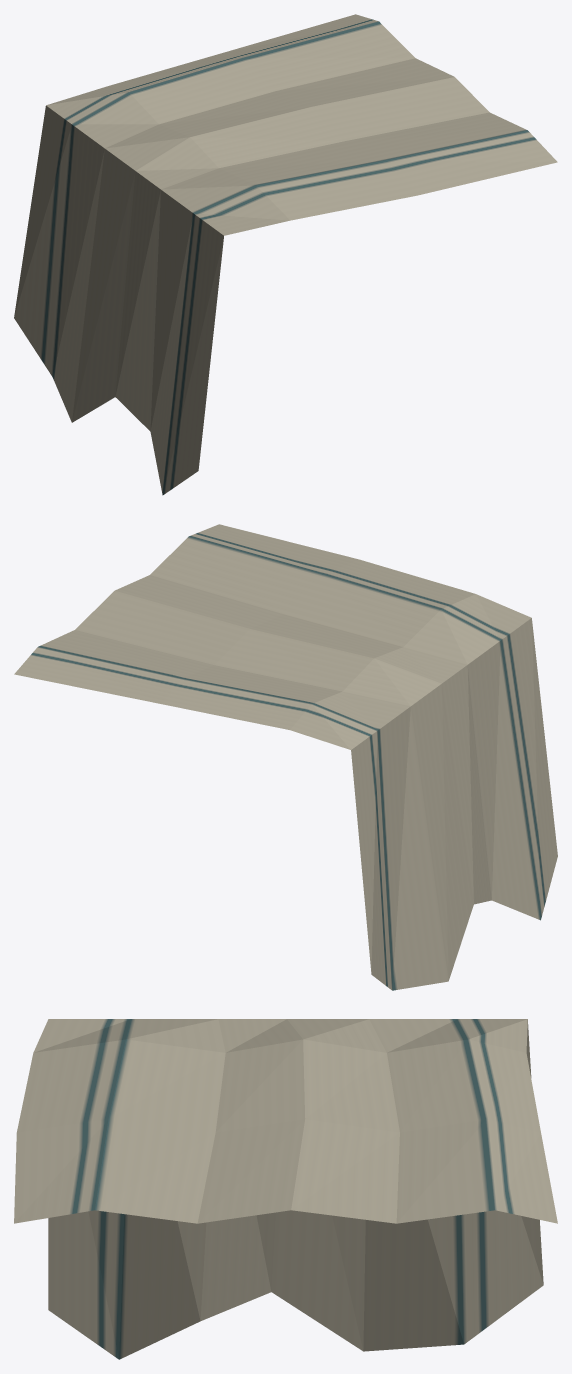
File: wiping_cloth.gltf
3 renders of one model, top to bottom at view 1: azimuth 30°, elevation 25°; view 2: azimuth 150°, elevation 25°; view 3: azimuth 270°, elevation 25°, orthographic. The views are drawn at different scales.
Size of the model in its own units: 0.4106 by 0.3139 by 0.4038.
Materials: 1 (1 with a texture image).
